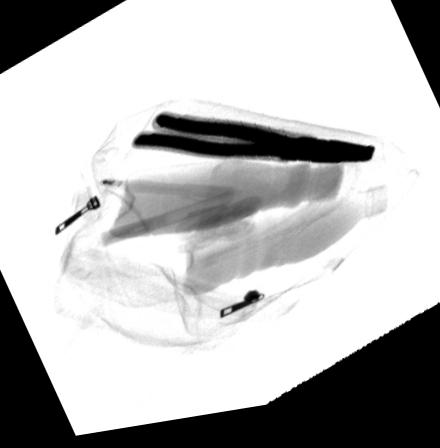Pliers: (131, 115, 376, 177)
